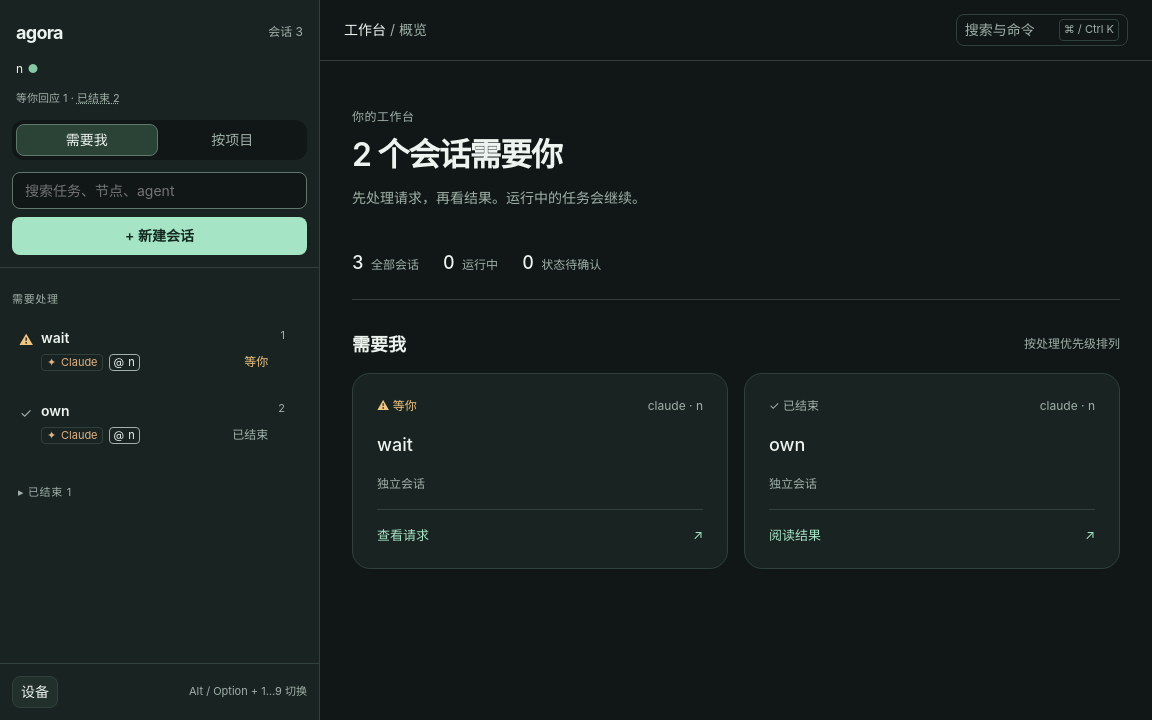
Workspace › clearing the Finished section from the counts line sends one DELETE per folded row and nothing for an unseen agora FINISHED row (agora-j4w.2)
This screenshot has width=1152, height=720.
Click the button with test id "clear-finished": (98, 99) [77, 90, 120, 108]
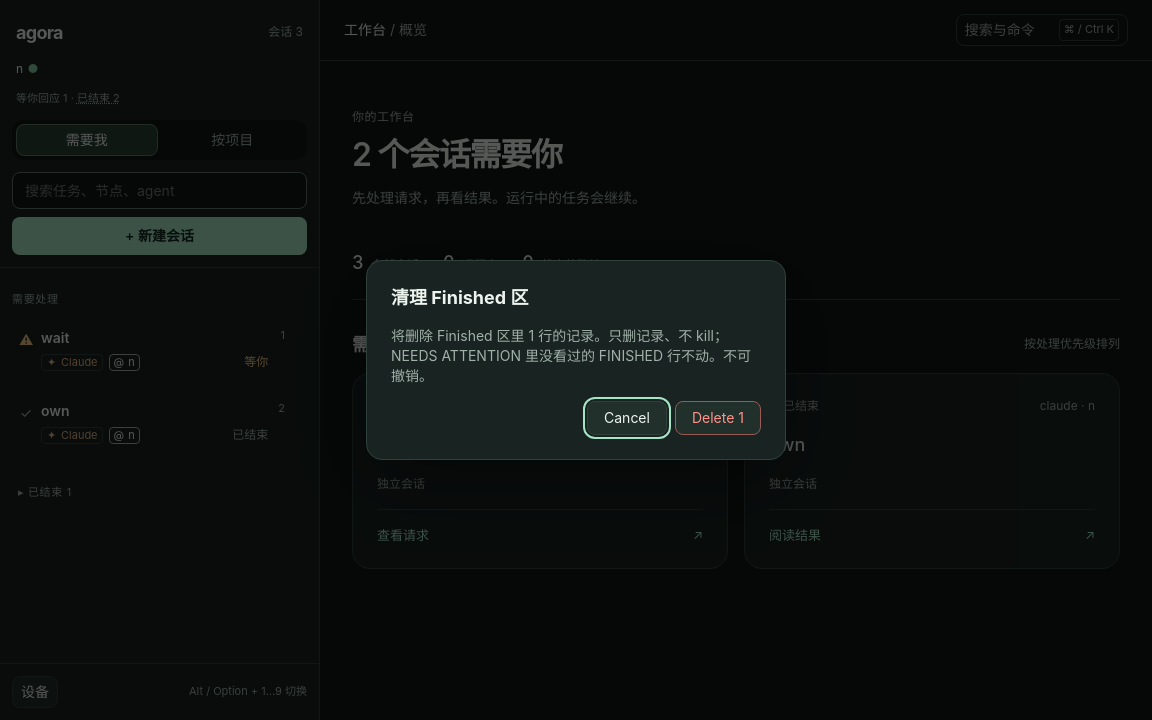
Click the button "Delete 1": (718, 418) [675, 401, 761, 435]
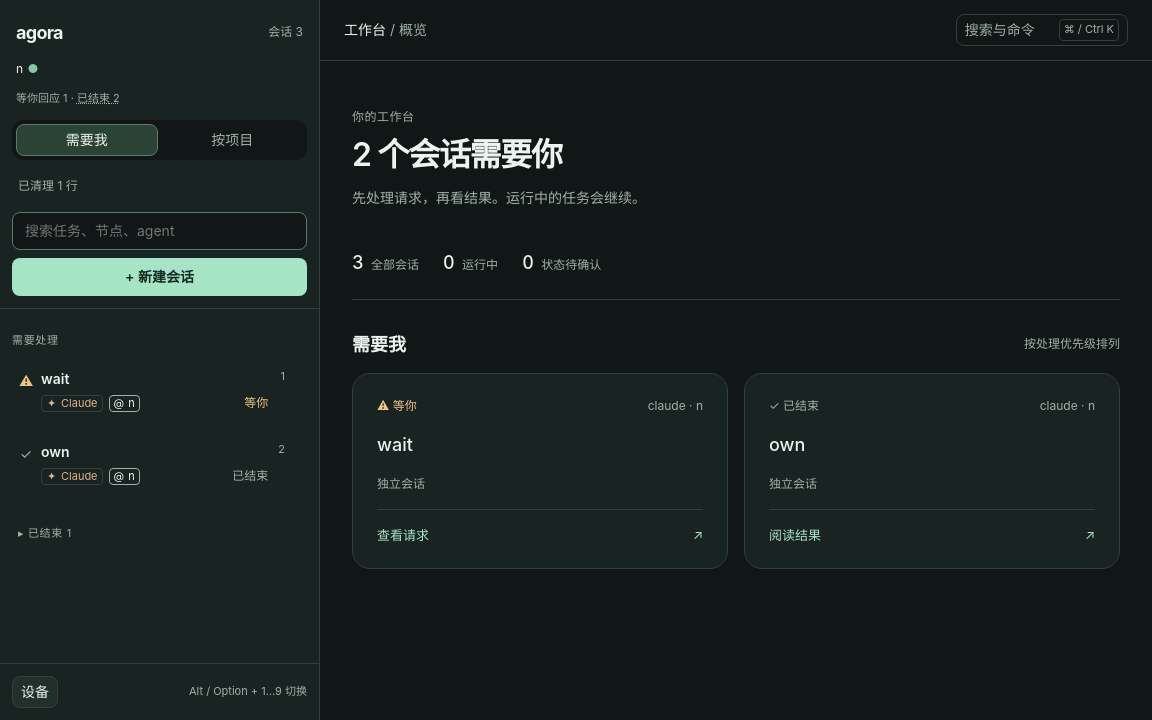
Now the message with test id "clear-finished-note" reads "已清理 1 行", box [18, 178, 78, 193]
